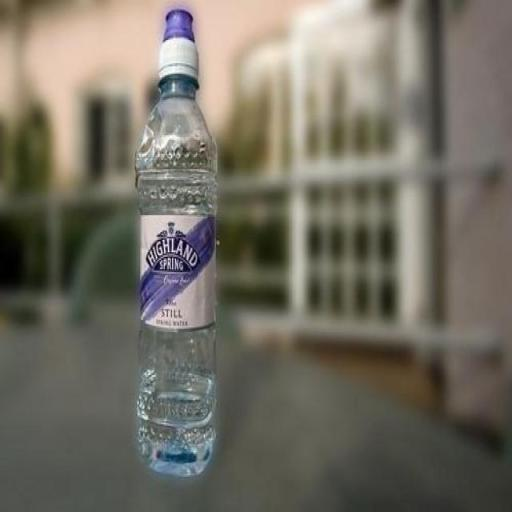plastic: (134, 6, 220, 480)
